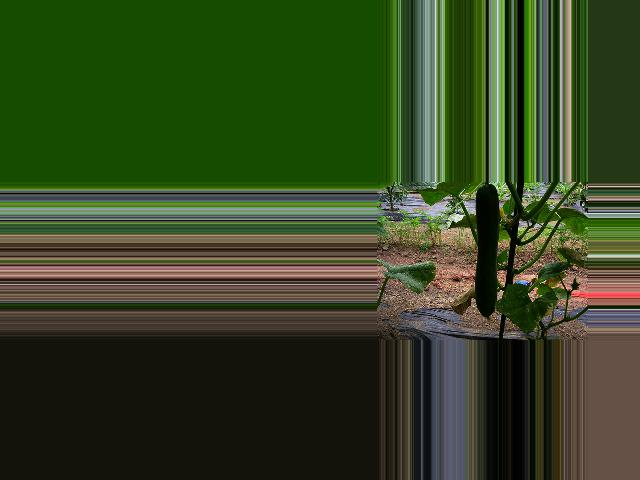cucumber: (474, 184, 499, 321)
